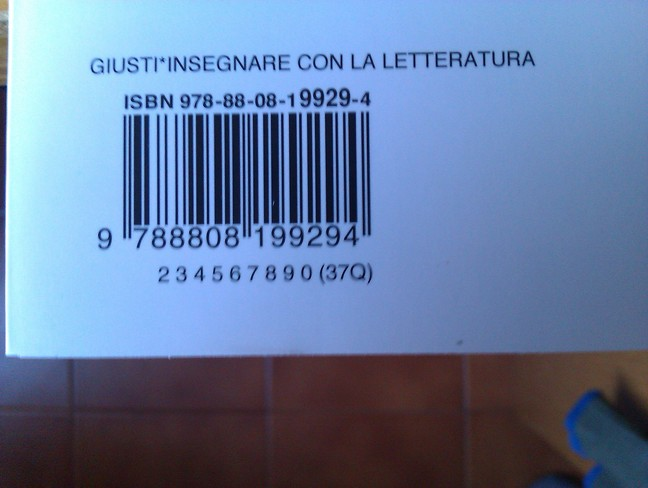detection: (83, 108, 381, 257)
